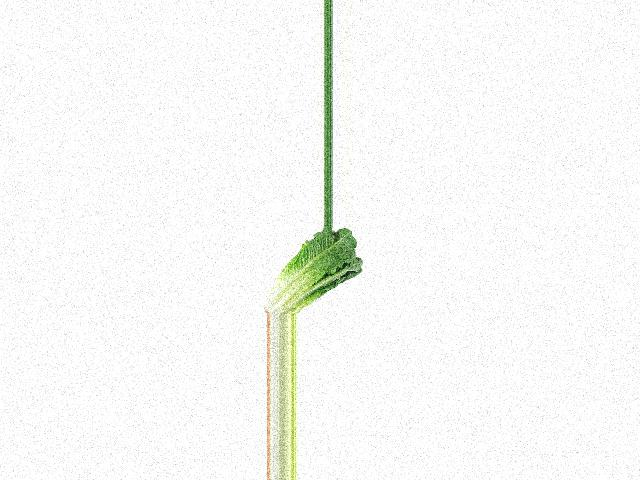lettuce: (262, 228, 364, 314)
